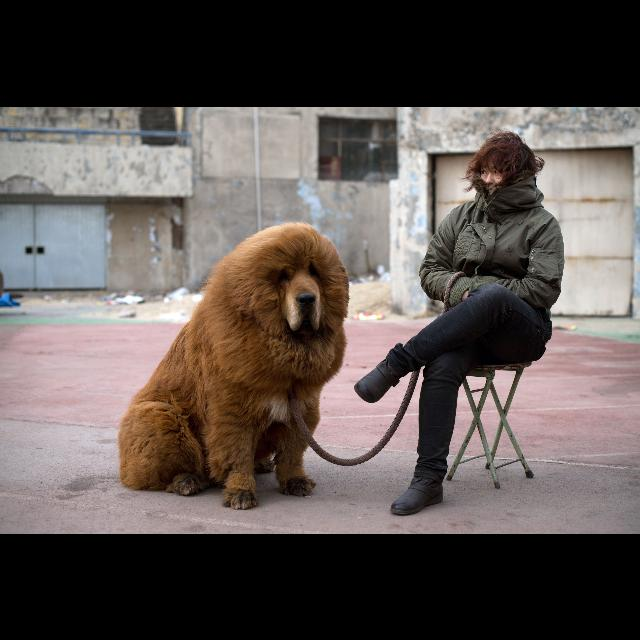other_dog_breed: (118, 221, 352, 513)
person: (357, 132, 568, 518)
